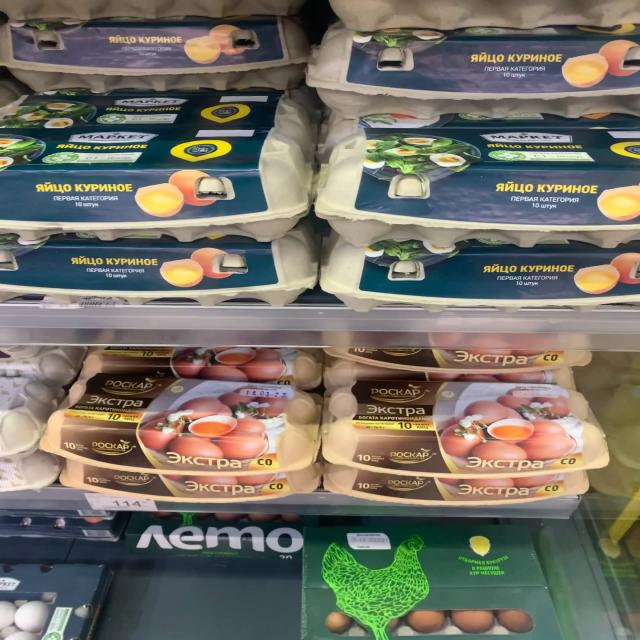egg box: (4, 92, 318, 243), (320, 118, 638, 252), (315, 21, 636, 117), (32, 376, 327, 475), (316, 380, 608, 477), (5, 13, 305, 100), (4, 228, 332, 301), (325, 249, 634, 317)
